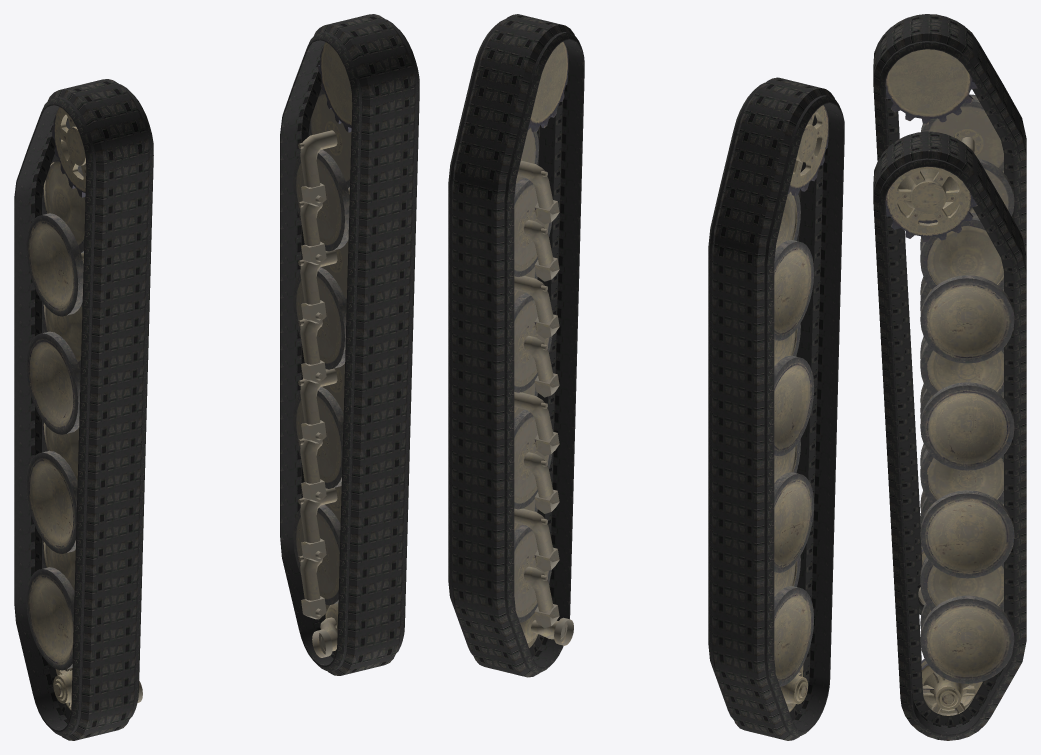
Rendered from Chassis.glb.
3 views of the same model, side by side, from view 1: azimuth 30°, elevation 25°; view 2: azimuth 150°, elevation 25°; view 3: azimuth 270°, elevation 25° (orthographic). The views are drawn at different scales.
Parts seen in each view (by area): view 1: set_3_group_0, set_2_group_0, set_0_group_0, set_1_group_0; view 2: set_3_group_0, set_2_group_0, set_0_group_0, set_1_group_0; view 3: set_0_group_0, set_2_group_0, set_3_group_0, set_1_group_0.
Boxes of the visible parts, <box> form: set_3_group_0: <box>14,79,153,740</box>; set_2_group_0: <box>280,14,419,675</box>; set_0_group_0: <box>293,42,352,657</box>; set_1_group_0: <box>26,107,142,710</box>; set_3_group_0: <box>708,77,844,740</box>; set_2_group_0: <box>448,14,584,677</box>; set_0_group_0: <box>514,42,573,647</box>; set_1_group_0: <box>774,105,828,712</box>; set_0_group_0: <box>885,167,1014,715</box>; set_2_group_0: <box>873,131,1026,740</box>; set_3_group_0: <box>873,14,1026,614</box>; set_1_group_0: <box>885,49,1014,604</box>.
Bounding box in the file's own units: 3.3 × 6.19 × 1.46.
Materials: 4 (4 with a texture image).
